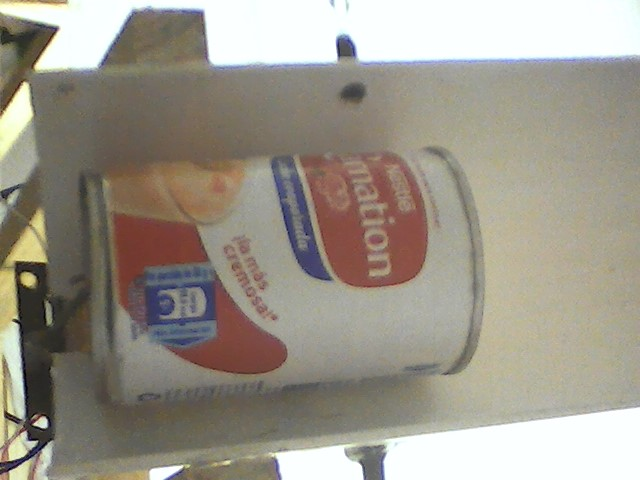lata: (78, 143, 492, 413)
